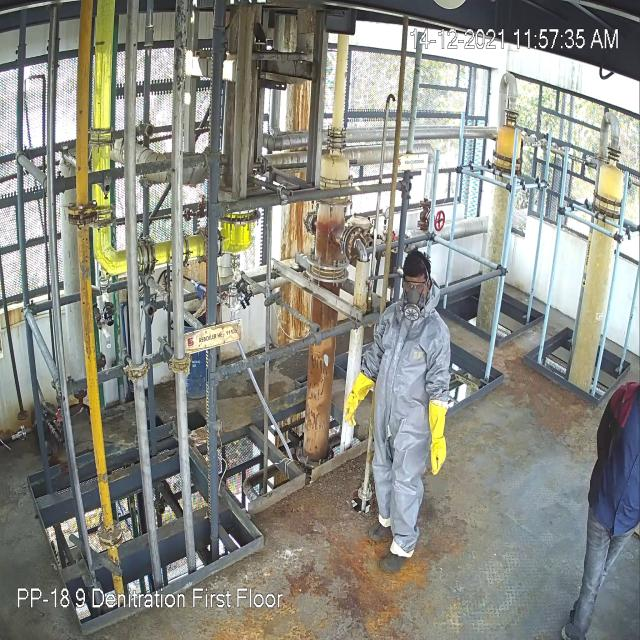glasses: (404, 274, 428, 290)
mask: (403, 291, 426, 320)
